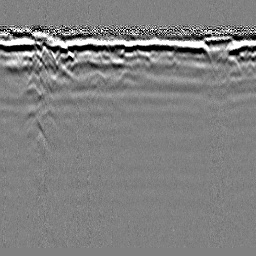cavity: (120, 42, 136, 55)
